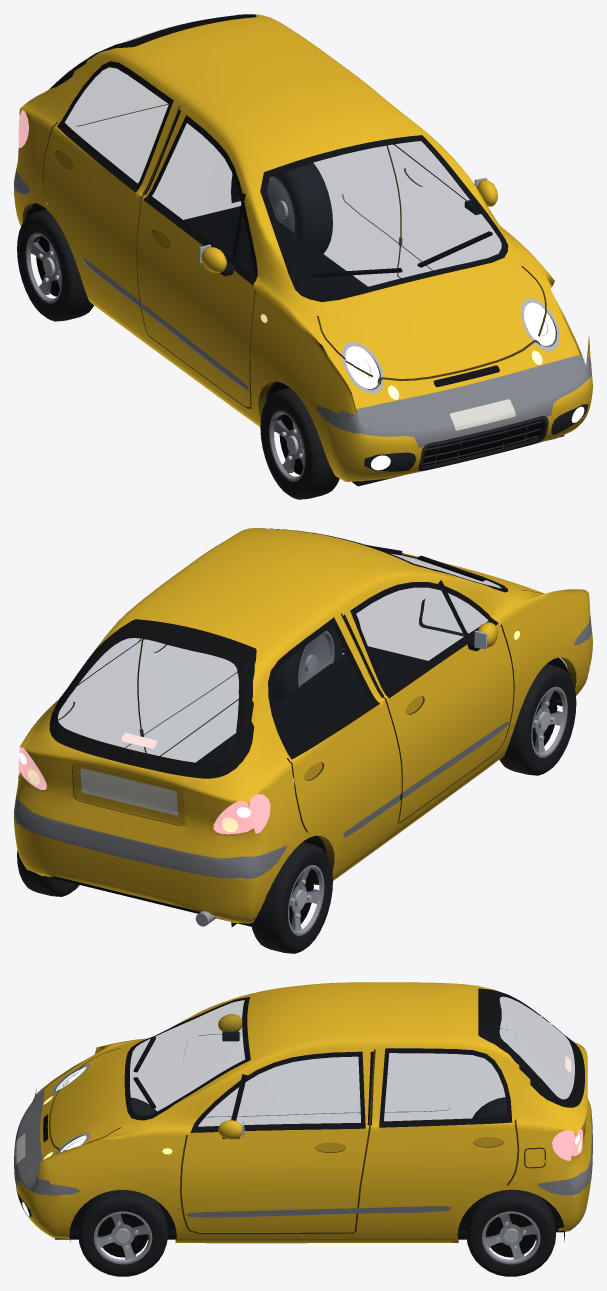
File: car_city.glb
3 renders of one model, top to bottom at view 1: azimuth 30°, elevation 25°; view 2: azimuth 150°, elevation 25°; view 3: azimuth 270°, elevation 25°, orthographic. The views are drawn at different scales.
Visible parts, largest first — view 1: body, wheel_fl, wheel_rl, wheel_rr; view 2: body, wheel_rl, wheel_fl, wheel_fr, wheel_rr; view 3: body, wheel_rr, wheel_fr, wheel_rl.
Part boxes in pixels (bbox=[...]): body: bbox=[14, 14, 592, 486]; wheel_fl: bbox=[260, 387, 339, 499]; wheel_rl: bbox=[17, 209, 93, 321]; wheel_rr: bbox=[267, 162, 332, 253]; body: bbox=[14, 528, 592, 927]; wheel_rl: bbox=[251, 841, 332, 953]; wheel_fl: bbox=[499, 663, 576, 775]; wheel_fr: bbox=[272, 625, 343, 704]; wheel_rr: bbox=[17, 850, 79, 896]; body: bbox=[14, 982, 592, 1243]; wheel_rr: bbox=[466, 1189, 555, 1276]; wheel_fr: bbox=[78, 1189, 167, 1276]; wheel_rl: bbox=[472, 1097, 542, 1148].
Size of the model in its own units: 1.62 by 1.49 by 3.51.
